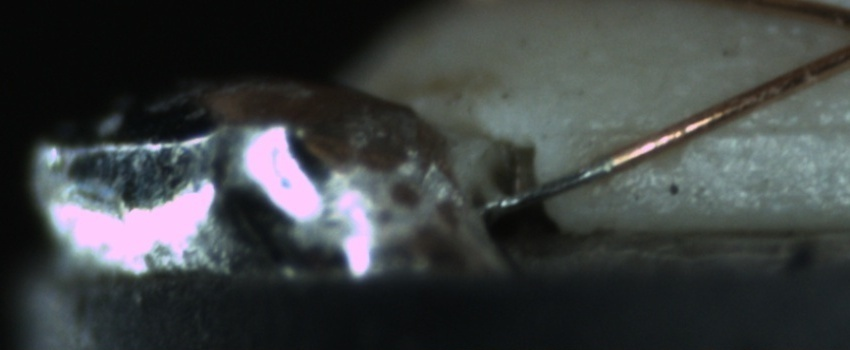DL: (563, 99, 849, 160)
TS: (486, 155, 612, 213)
TTCW: (485, 147, 635, 213)
